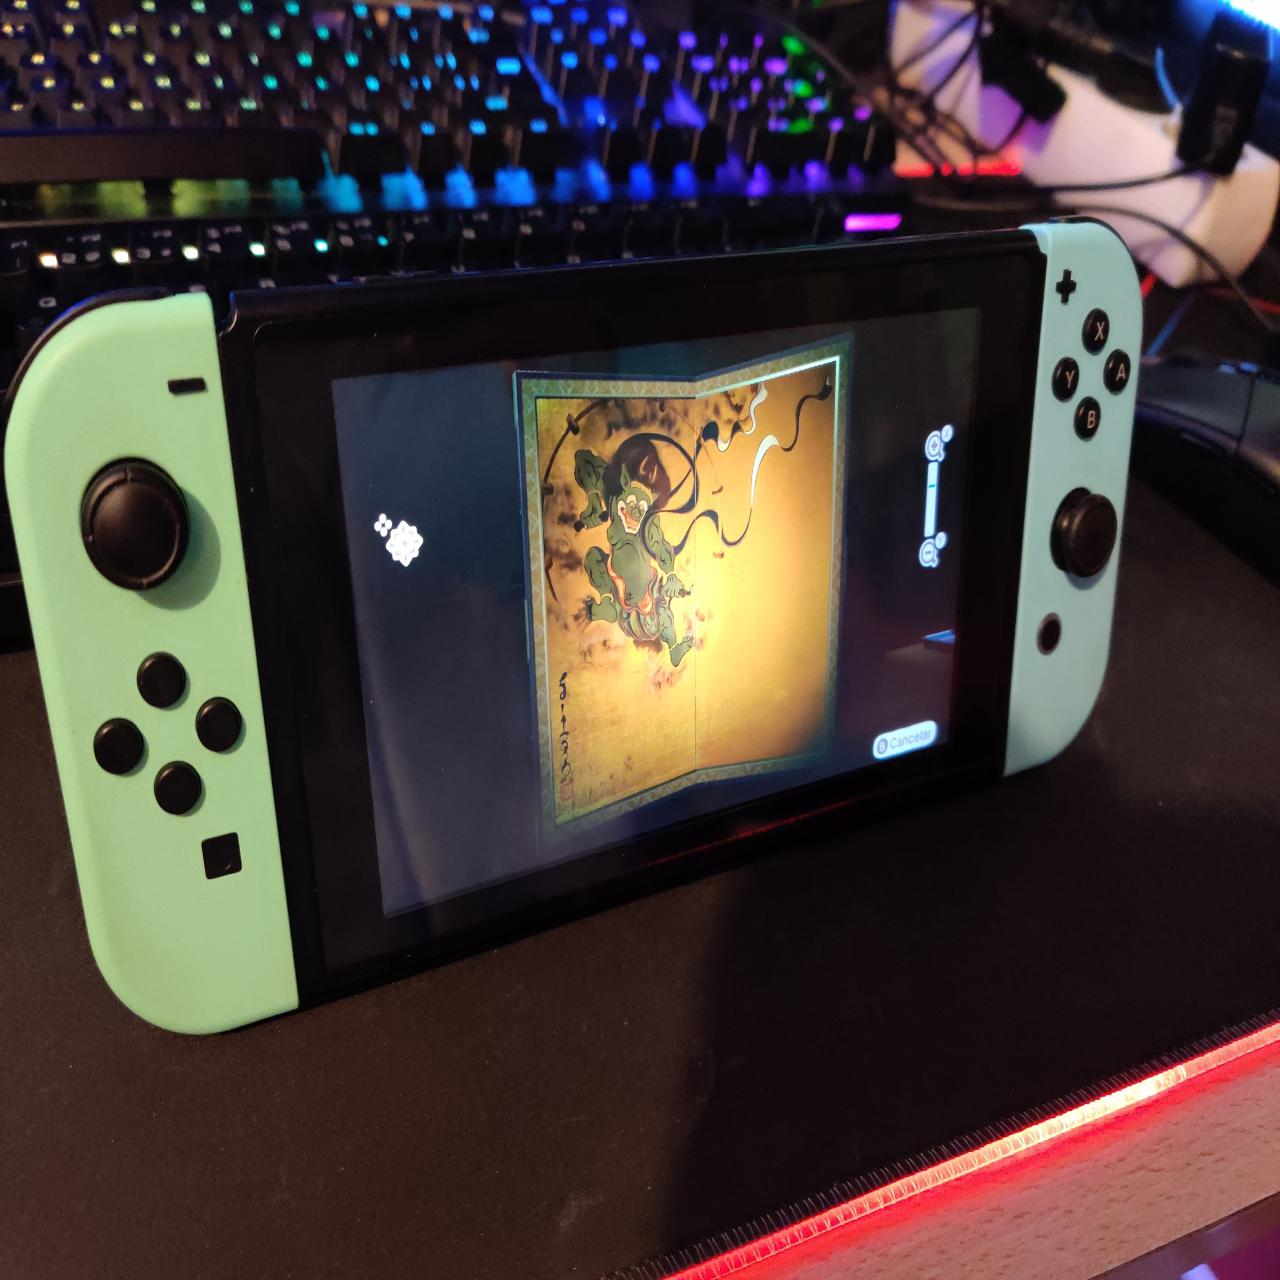RaijinFake: (517, 340, 855, 842)
